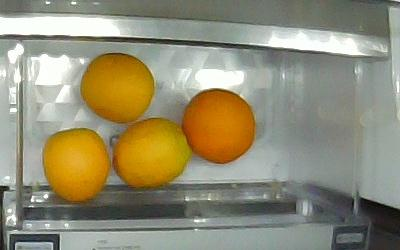orange: (113, 118, 192, 188), (183, 89, 255, 164), (81, 53, 155, 123), (43, 129, 110, 202)
